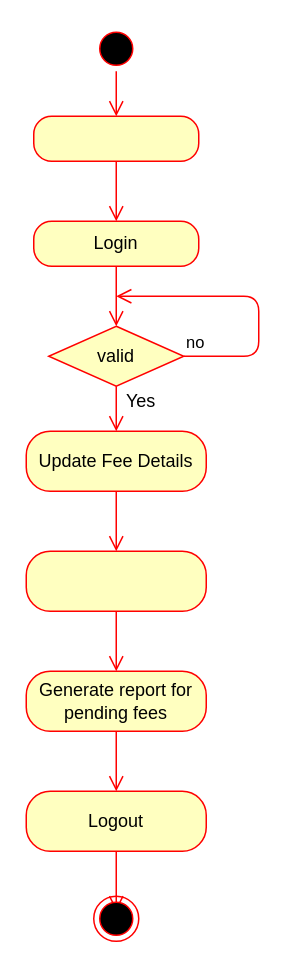
The diagram is 300 pixels wide and 968 high, and some of its shapes have lost their labels. The centre of each missing label's shape, as x and y in pixels:
Create invoice for fees payment: the point at 115,580
Start: the point at 115,138
